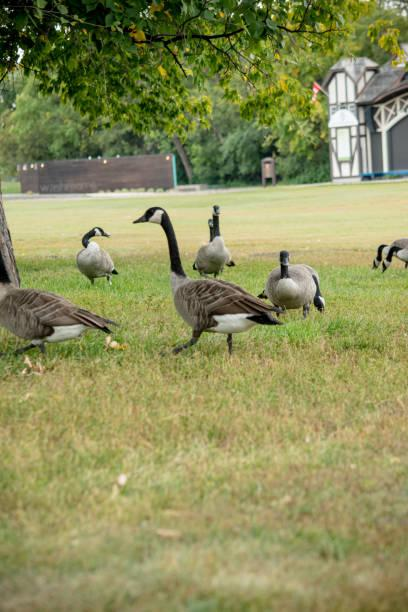Canadian-Goose: (134, 202, 271, 350), (0, 278, 117, 360), (259, 250, 338, 318), (72, 222, 128, 281), (194, 201, 239, 270), (385, 236, 408, 275), (368, 236, 393, 271)
